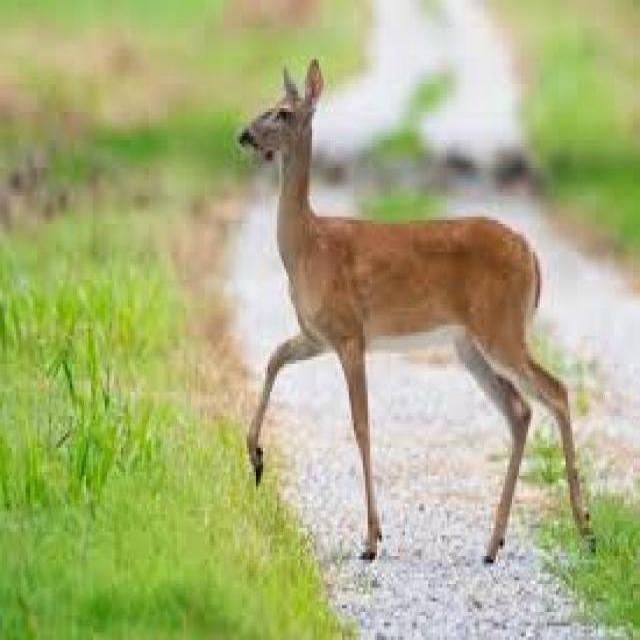deer: (218, 63, 602, 573)
